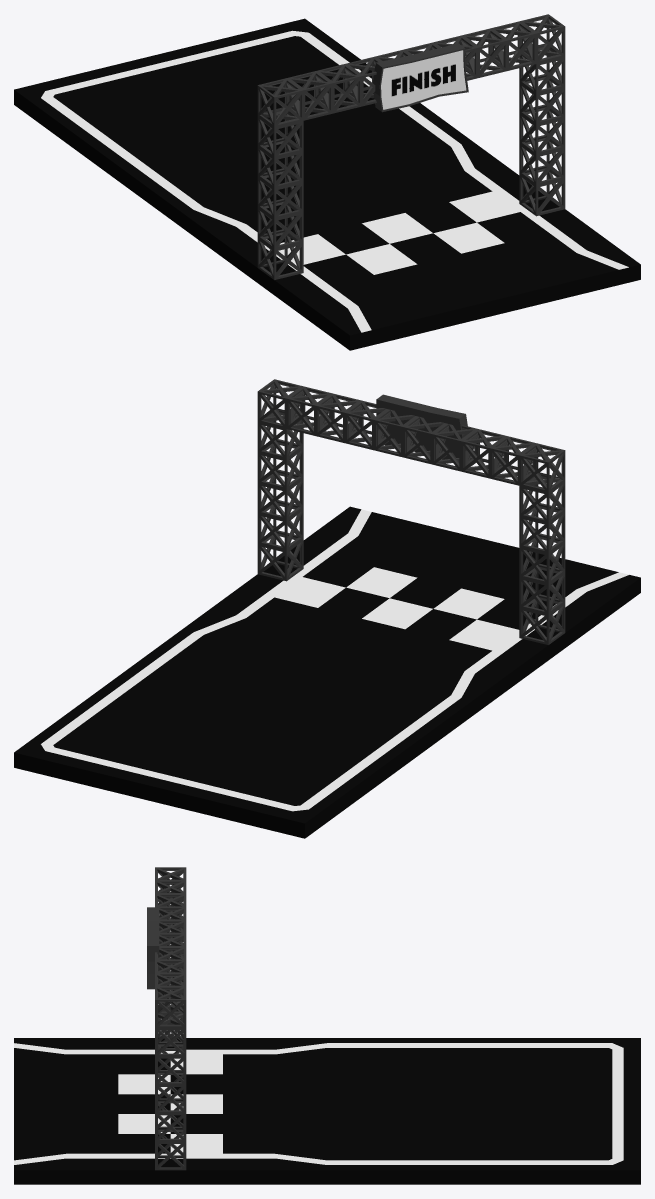
The model's file is finish_export.fbx.
3 renders of one model, top to bottom at view 1: azimuth 30°, elevation 25°; view 2: azimuth 150°, elevation 25°; view 3: azimuth 270°, elevation 25°, orthographic. The views are drawn at different scales.
Parts seen in each view (by area): view 1: Cube, Cube.003, Cube.001, Cube.002, Cube.004; view 2: Cube.003, Cube, Cube.001, Cube.002, Cube.004; view 3: Cube.003, Cube, Cube.002, Cube.001, Cube.004.
Boxes of the visible parts, x1,y1,x2,y2 form: Cube: (182, 141, 640, 350); Cube.003: (14, 18, 472, 227); Cube.001: (257, 47, 565, 279); Cube.002: (257, 14, 565, 127); Cube.004: (373, 43, 468, 112); Cube.003: (14, 629, 472, 838); Cube: (182, 506, 640, 715); Cube.001: (257, 412, 565, 644); Cube.002: (257, 379, 565, 492); Cube.004: (376, 394, 468, 459); Cube.003: (327, 1038, 640, 1184); Cube: (14, 1038, 327, 1184); Cube.002: (155, 867, 186, 1028); Cube.001: (155, 898, 186, 1170); Cube.004: (147, 907, 159, 989).
Size of the model in its own units: 2000 by 1351 by 4000.
Materials: 4 (1 with a texture image).
